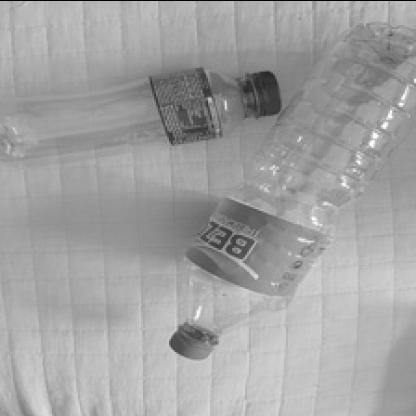plastic_bottles: (168, 17, 416, 363), (0, 63, 288, 171)
